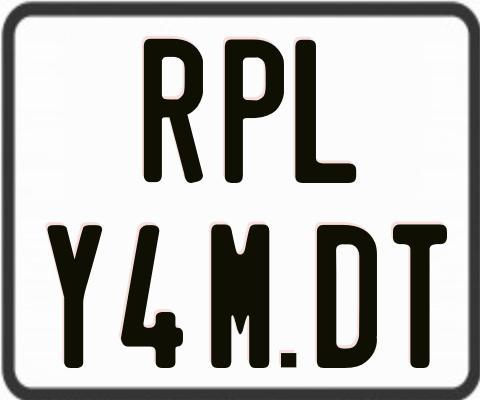4: (118, 225, 181, 374)
D: (314, 224, 375, 368)
L: (295, 39, 361, 184)
M: (209, 224, 272, 373)
P: (222, 36, 284, 185)
R: (141, 39, 202, 183)
T: (390, 224, 448, 369)
Y: (45, 222, 104, 370)
